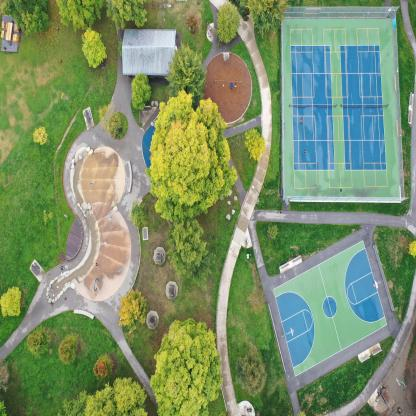Coniferous Tree: (167, 219, 208, 276), (115, 285, 150, 345), (169, 50, 204, 100), (239, 354, 270, 397), (248, 0, 280, 40), (216, 2, 239, 47), (53, 331, 80, 367), (91, 348, 114, 380), (28, 329, 48, 363), (126, 204, 150, 226), (265, 221, 280, 239)
Deciduous Tree: (152, 100, 238, 212), (150, 309, 226, 416), (112, 367, 149, 416), (78, 20, 108, 72), (239, 126, 266, 162), (84, 387, 117, 416), (0, 281, 21, 326), (127, 72, 151, 107), (32, 120, 49, 145)
